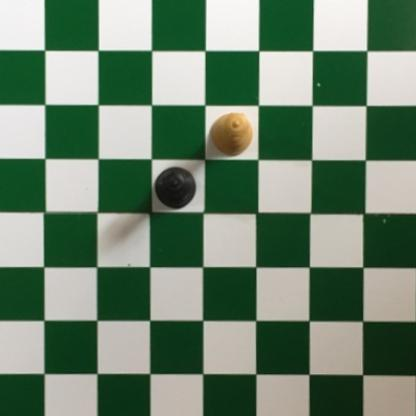black-queen: (153, 166, 198, 209)
white-queen: (208, 110, 255, 157)
